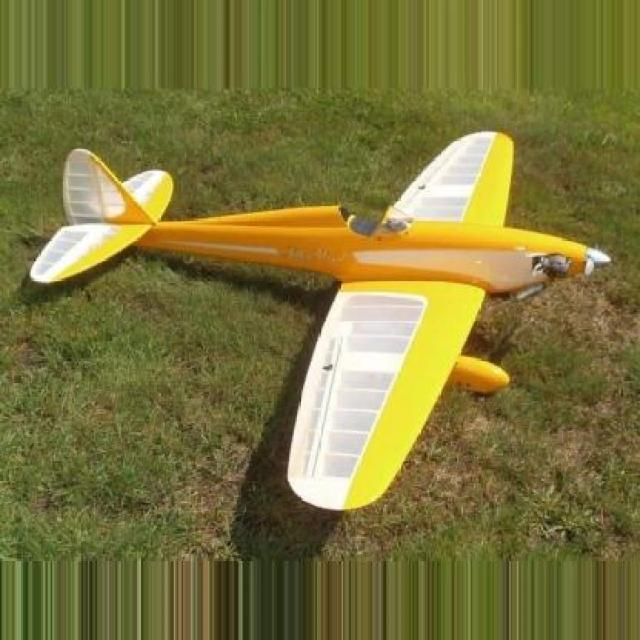iha: (32, 131, 612, 509)
